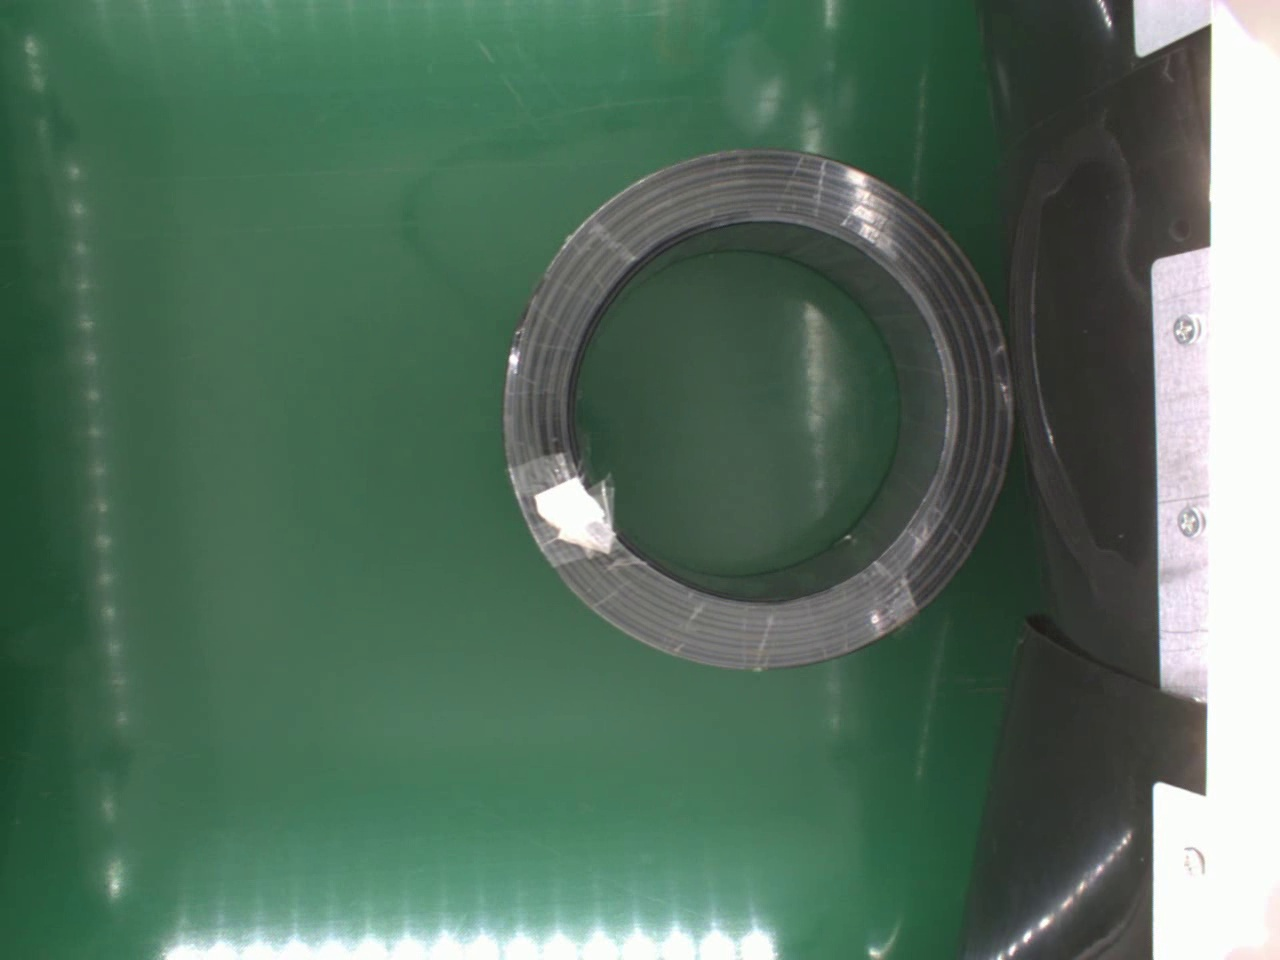black: (499, 145, 1012, 681)
